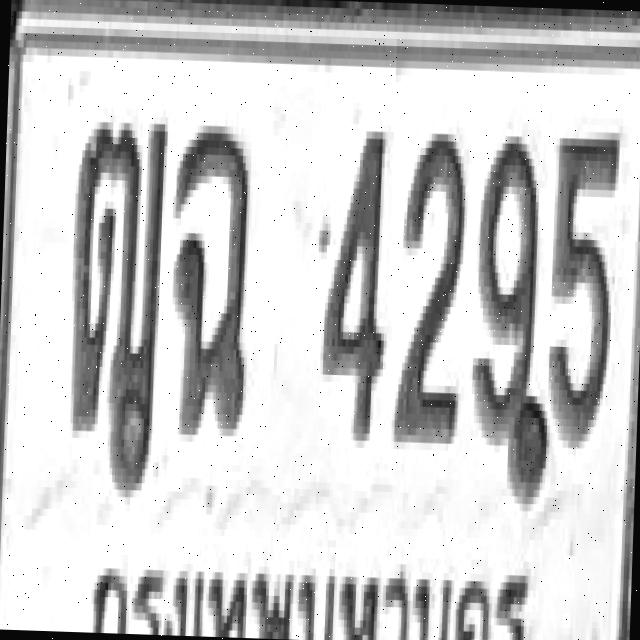18ChorChing: (166, 117, 256, 436)
2: (392, 125, 469, 444)
27ThorPhuThao: (66, 114, 168, 476)
4: (317, 122, 391, 440)
5: (543, 123, 620, 449)
9: (466, 128, 558, 496)
